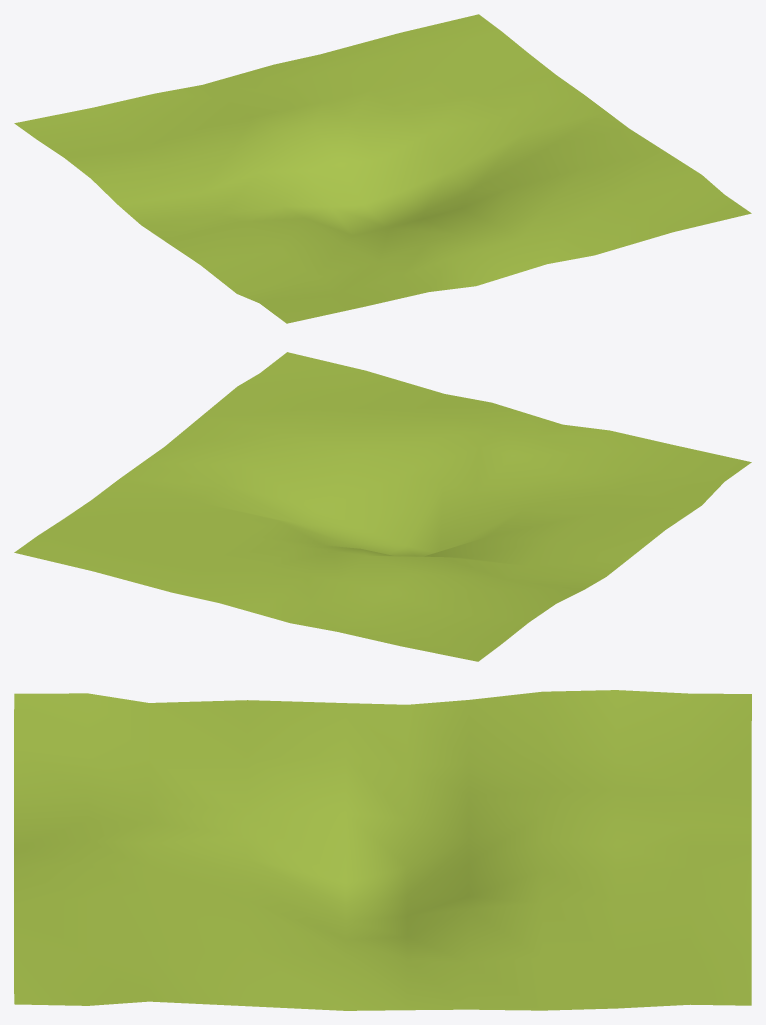
File: collider_bosse_neg3.fbx
3 renders of one model, top to bottom at view 1: azimuth 30°, elevation 25°; view 2: azimuth 150°, elevation 25°; view 3: azimuth 270°, elevation 25°, orthographic. The views are drawn at different scales.
Parts seen in each view (by area): view 1: bosse_neg4; view 2: bosse_neg4; view 3: bosse_neg4.
Part boxes in pixels (x1=…): bosse_neg4: x1=14, y1=14, x2=751, y2=323; bosse_neg4: x1=14, y1=352, x2=751, y2=661; bosse_neg4: x1=14, y1=690, x2=751, y2=1010.
Bounding box in the file's own units: 708 × 74.66 × 721.
